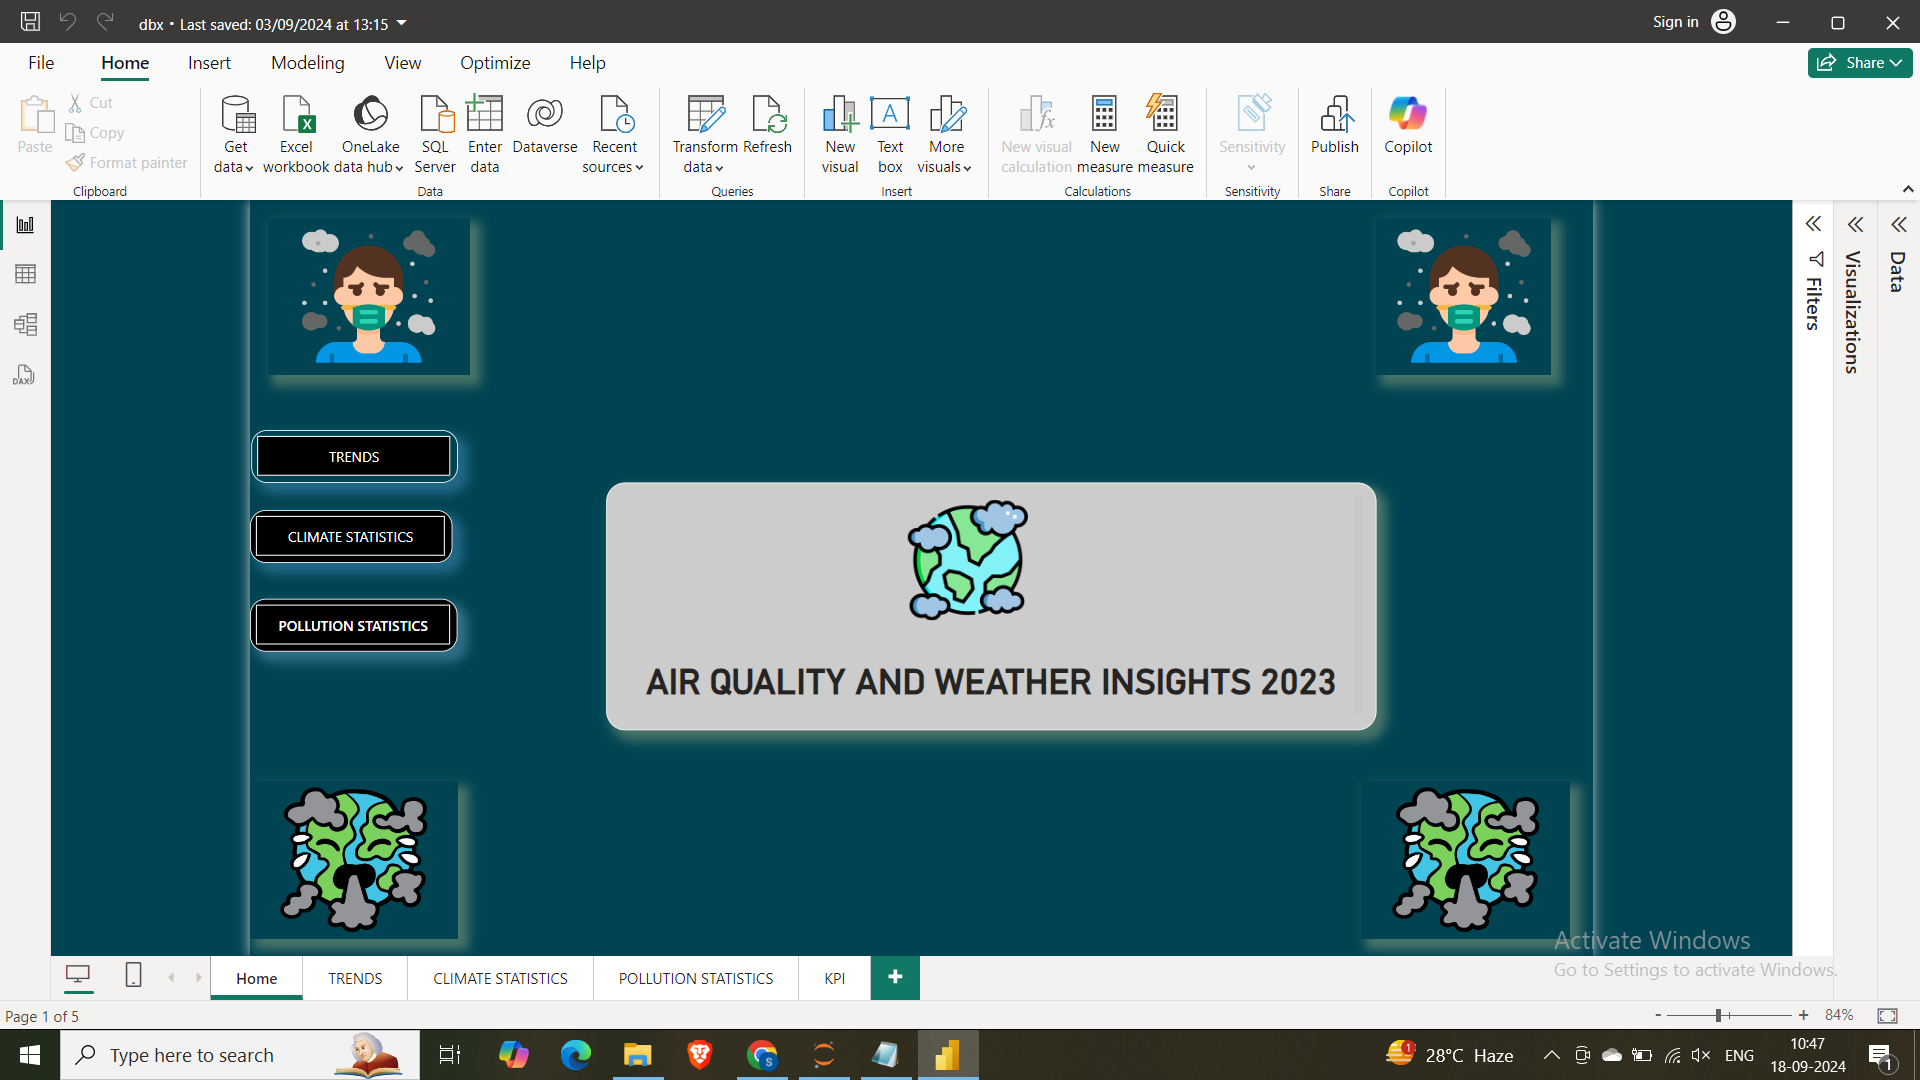

This screenshot's page, from the dashboard's own definition file:
{"tool":"powerbi","page":{"name":"Home","canvas":[1280,720],"ordinal":0},"visuals":[{"type":"pageNavigator","box":[0,295.2,192.9,50],"z":1000},{"type":"pageNavigator","box":[1.2,219,196.4,50],"z":2000},{"type":"textbox","box":[261.9,136.9,888.1,319],"z":3000},{"type":"pageNavigator","box":[0,379.8,197.6,50],"z":4000},{"type":"image","box":[0,0,192.9,150],"z":5000},{"type":"image","box":[379.8,159.5,585.7,123.8],"z":6000},{"type":"image","box":[1113.1,0,166.7,136.9],"z":10001},{"type":"image","box":[0,553,198,150],"z":10002},{"type":"image","box":[1081,570.2,198.8,150],"z":10003}]}

Visuals, with their boxes on the page's 1280x720 design canvas (x1, y1, x2, y2). These are canvas units, not pixel positions in the 1920x1080 screenshot, which may show the page scaled, cropped or inside an application window:
pageNavigator: 0:295:193:345
pageNavigator: 1:219:198:269
textbox: 262:137:1150:456
pageNavigator: 0:380:198:430
image: 0:0:193:150
image: 380:160:966:283
image: 1113:0:1280:137
image: 0:553:198:703
image: 1081:570:1280:720
